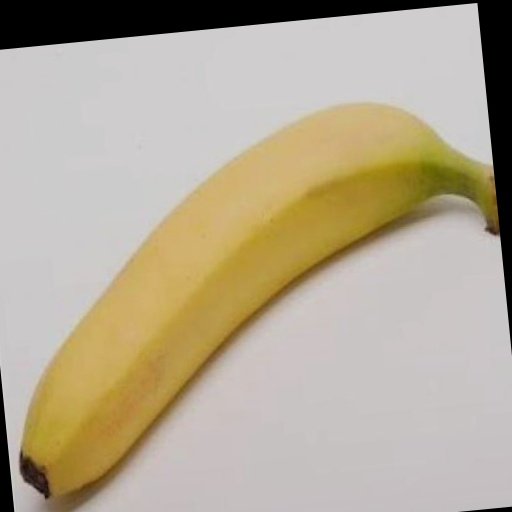fruit: (20, 104, 499, 496)
